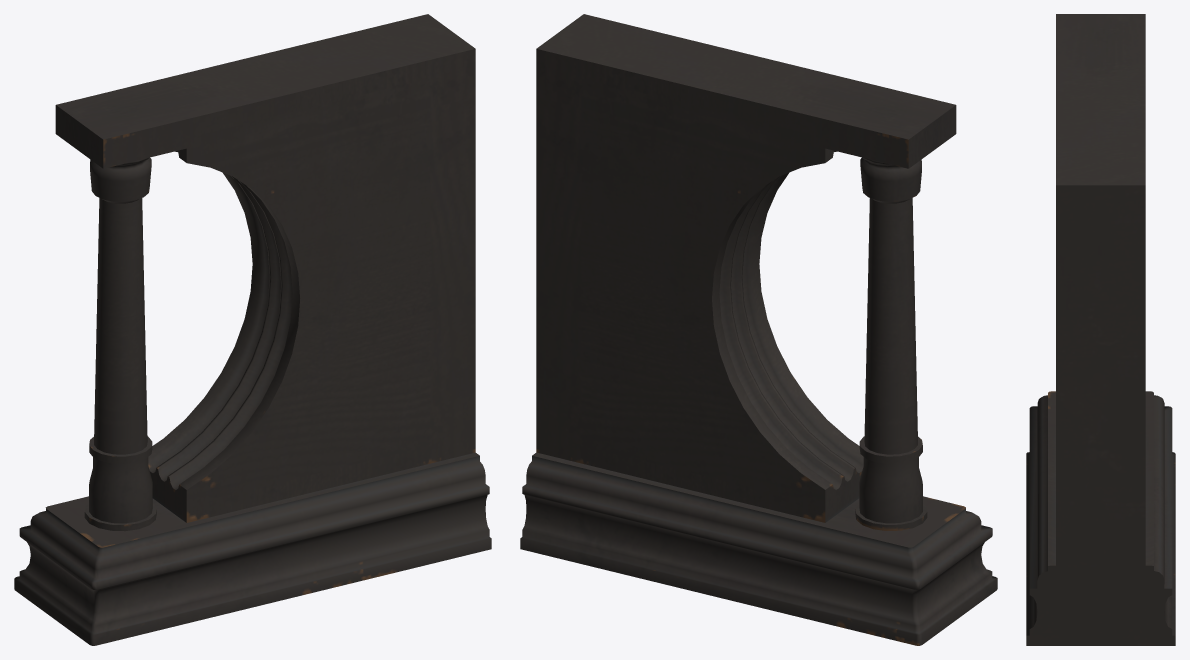
File: SM_TableASupport.fbx
3 renders of one model, left to right at view 1: azimuth 30°, elevation 25°; view 2: azimuth 150°, elevation 25°; view 3: azimuth 270°, elevation 25°, orthographic. The views are drawn at different scales.
Parts seen in each view (by area): view 1: SM_TableASupport_LOD0; view 2: SM_TableASupport_LOD0; view 3: SM_TableASupport_LOD0.
Part boxes in pixels (x1=…): SM_TableASupport_LOD0: x1=14, y1=14, x2=491, y2=645; SM_TableASupport_LOD0: x1=520, y1=14, x2=997, y2=645; SM_TableASupport_LOD0: x1=1026, y1=14, x2=1175, y2=645.
Bounding box in the file's own units: 66.4 × 22.82 × 77.61.
Materials: 1 (1 with a texture image).
